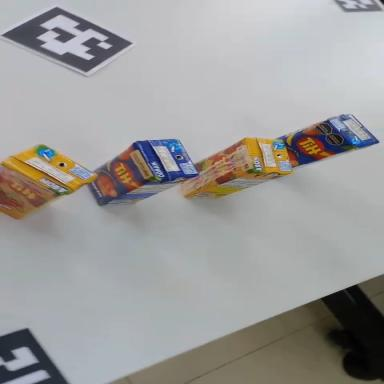HIT-MANGO: (80, 125, 198, 217), (277, 106, 378, 172)
HIT-MORA: (0, 126, 99, 226), (172, 127, 294, 208)
cara_F: (81, 142, 156, 209), (173, 138, 257, 197), (0, 162, 64, 235), (275, 115, 356, 170)
